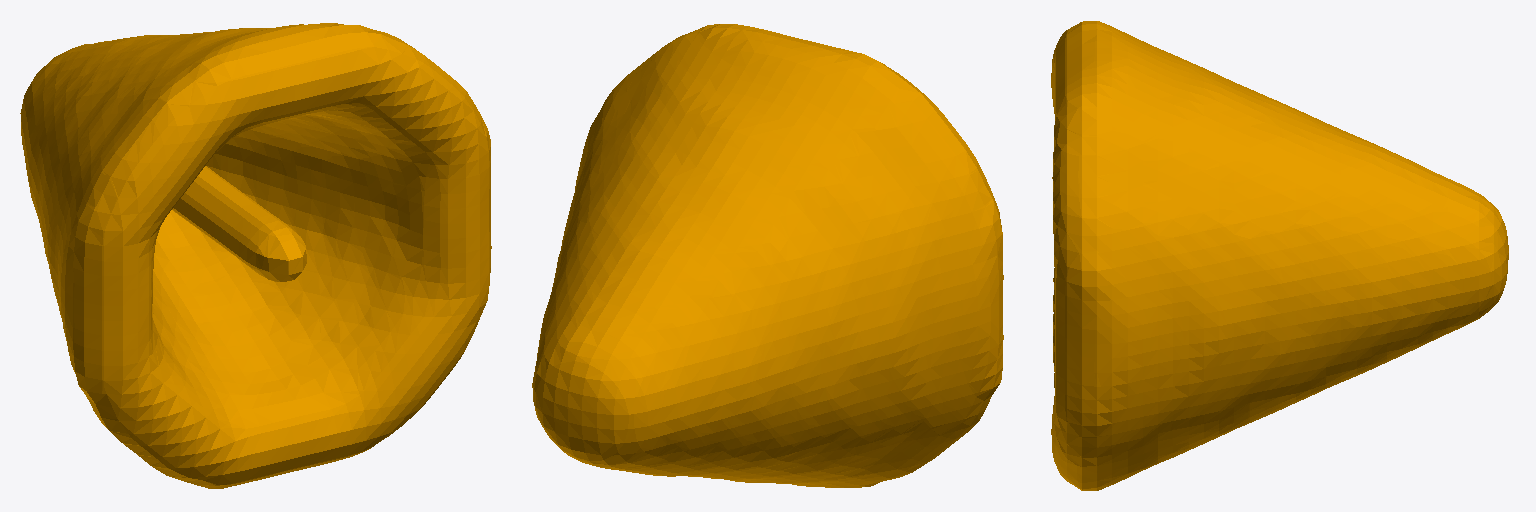
The robot description file, URDF, robot "N05_0":
<?xml version="1.0"?>
<robot name="N05_0">
  <link name="base_link">
    <visual>
      <geometry>
        <mesh filename="../../../../meshes/egad/train/N05_0.obj" />
      </geometry>
    </visual>
  </link>
</robot>

--- What the picture shows (computed from the rendered views, not written in the file) ---
The picture shows the robot from 3 angles, left to right: view 1: azimuth 30°, elevation 25°; view 2: azimuth 150°, elevation 25°; view 3: azimuth 270°, elevation 25°; orthographic projection.
Robot: N05_0 — 1 links, 0 joints (none); root link base_link; default pose: every joint at zero.
Links seen in each view (by area): view 1: base_link; view 2: base_link; view 3: base_link.
Boxes of the visible links, x1=… form: base_link: x1=20, y1=23, x2=491, y2=488; base_link: x1=532, y1=24, x2=1003, y2=487; base_link: x1=1051, y1=21, x2=1508, y2=490.
Bounding box of the posed robot: 0.06 × 0.0606 × 0.06 m (x, y, z).
Meshes: 1 distinct files referenced, 1 mesh visuals loaded (1 OBJ).